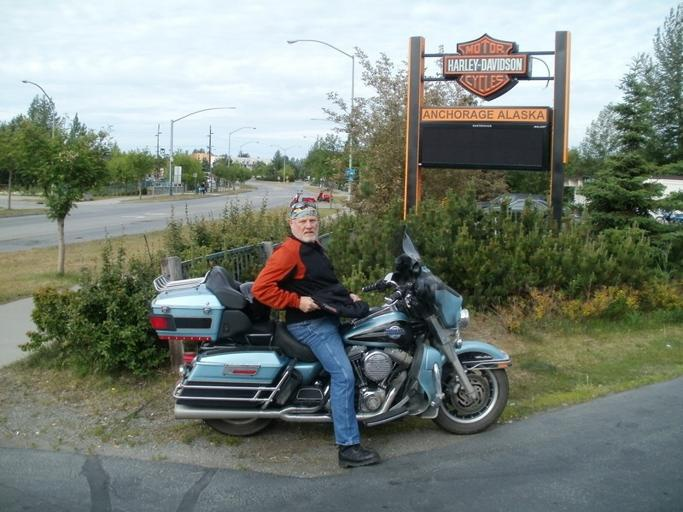non-vehicle: (148, 222, 511, 439), (289, 188, 316, 207), (316, 191, 334, 202)
